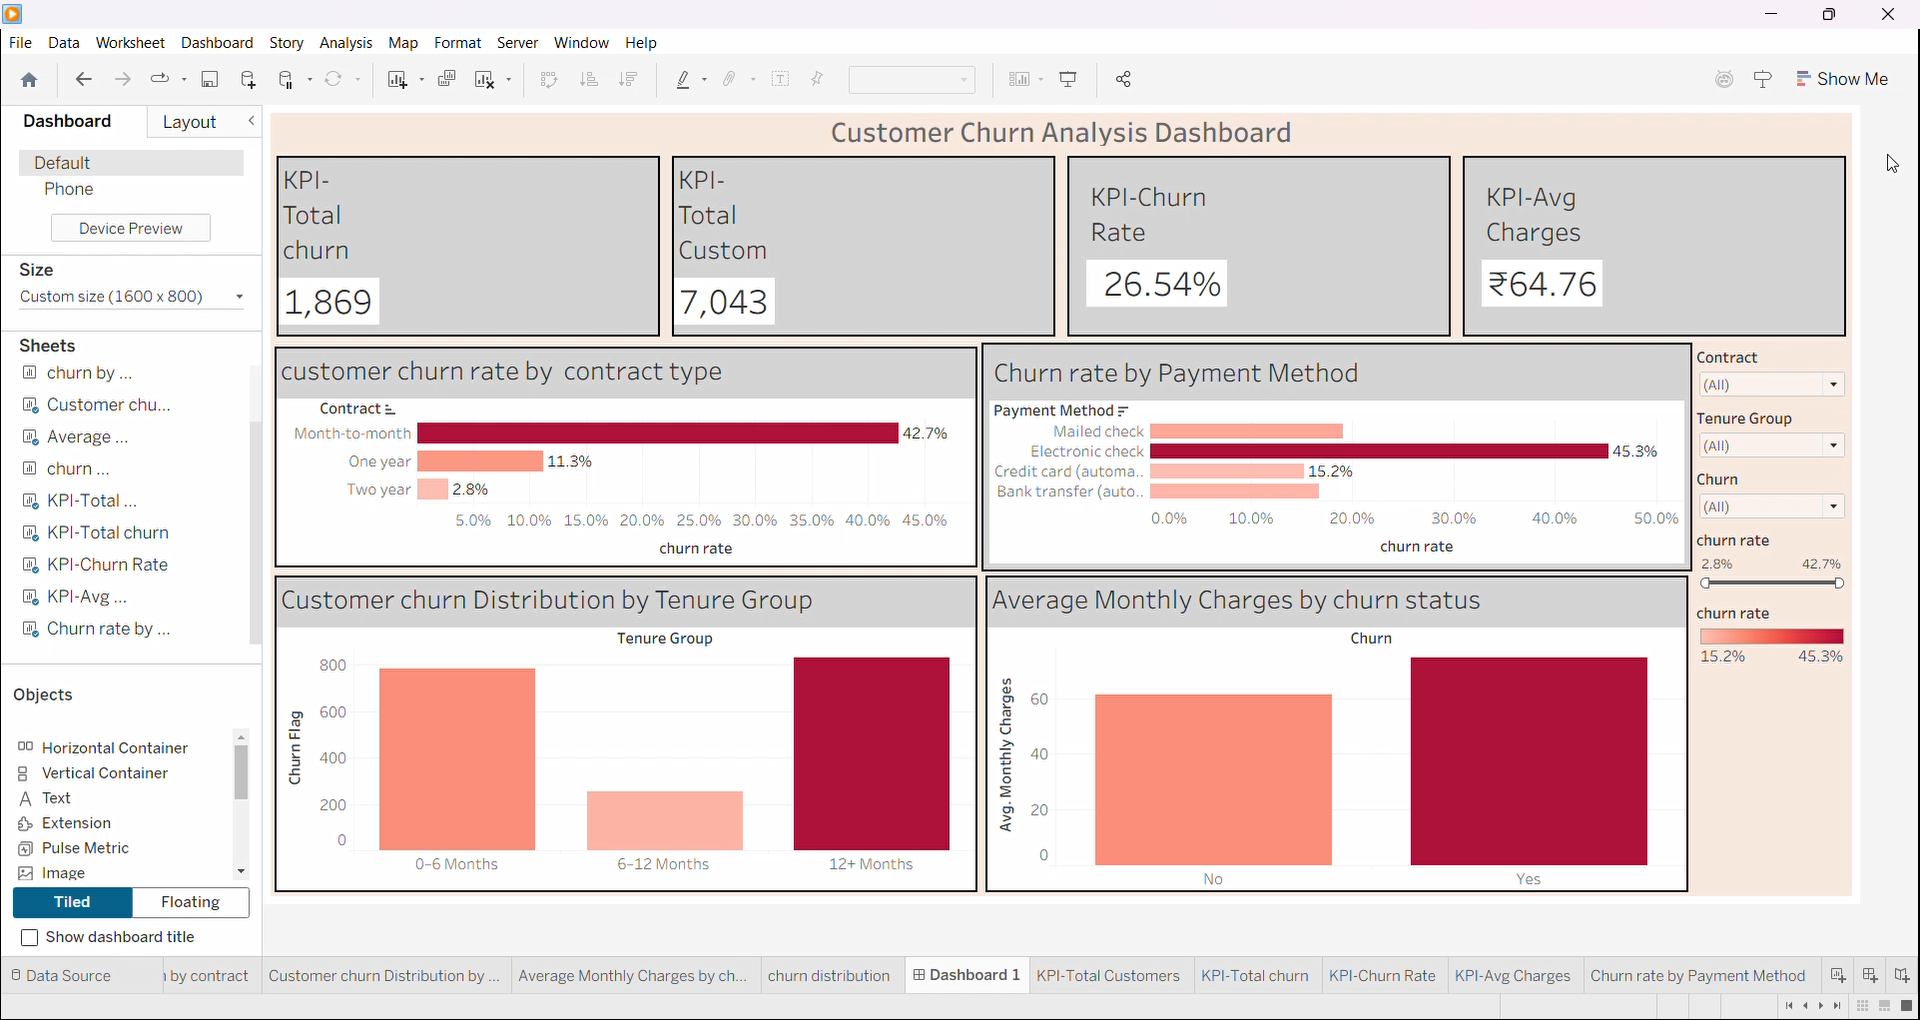

The page's visual inventory and layout, read from the dashboard file:
{"tool":"tableau","page":{"name":"Dashboard 1","canvas":[1600,800],"ordinal":0},"visuals":[{"type":"text","box":[8,8,1584,37]},{"type":"worksheet","title":"KPI-Total churn","mark":"Automatic","box":[8,45,396,193]},{"type":"worksheet","title":"KPI-Total Customers","mark":"Automatic","box":[404,45,396,193]},{"type":"worksheet","title":"KPI-Churn Rate","mark":"Automatic","box":[800,45,396,193]},{"type":"worksheet","title":"KPI-Avg Charges","mark":"Automatic","box":[1196,45,396,193]},{"type":"worksheet","title":"customer churn rate by  contract type","mark":"Bar","rows":["Contract"],"cols":["Calculation_0613843206803456"],"box":[8,238,711.9,228.7]},{"type":"worksheet","title":"Churn rate by Payment Method","mark":"Bar","rows":["PaymentMethod"],"cols":["Calculation_0613843206803456"],"box":[719.9,238,712.1,228.7]},{"type":"filter","title":"Average Monthly Charges by churn status","param":"[federated.15m1s4r00rppu7175kh0e07i2u0x].[none:Contract:nk]","box":[1432,238,160,61]},{"type":"filter","title":"Customer churn Distribution by Tenure Group","param":"[federated.15m1s4r00rppu7175kh0e07i2u0x].[none:Calculation_1121813749538818:nk]","box":[1432,299,160,61]},{"type":"filter","title":"Average Monthly Charges by churn status","param":"[federated.15m1s4r00rppu7175kh0e07i2u0x].[none:Churn:nk]","box":[1432,360,160,61]},{"type":"filter","title":"customer churn rate by  contract type","param":"[federated.15m1s4r00rppu7175kh0e07i2u0x].[usr:Calculation_0613843206803456:qk]","box":[1432,421,160,73]},{"type":"worksheet","title":"Customer churn Distribution by Tenure Group","mark":"Bar","rows":["Calculation_1121813748920320"],"cols":["Calculation_1121813749538818"],"box":[8,466.7,711.9,325.3]},{"type":"worksheet","title":"Average Monthly Charges by churn status","mark":"Bar","rows":["MonthlyCharges"],"cols":["Churn"],"box":[719.9,466.7,712.1,325.3]},{"type":"legend","title":"Churn rate by Payment Method","param":"[federated.15m1s4r00rppu7175kh0e07i2u0x].[usr:Calculation_0613843206803456:qk]","box":[1432,494,160,73]}]}

Visuals, with their boxes on the page's 1600x800 design canvas (x1, y1, x2, y2). These are canvas units, not pixel positions in the 1920x1020 screenshot, which may show the page scaled, cropped or inside an application window:
text: Rect(8, 8, 1592, 45)
"KPI-Total churn" worksheet: Rect(8, 45, 404, 238)
"KPI-Total Customers" worksheet: Rect(404, 45, 800, 238)
"KPI-Churn Rate" worksheet: Rect(800, 45, 1196, 238)
"KPI-Avg Charges" worksheet: Rect(1196, 45, 1592, 238)
"customer churn rate by  contract type" worksheet (Bar marks): Rect(8, 238, 720, 467)
"Churn rate by Payment Method" worksheet (Bar marks): Rect(720, 238, 1432, 467)
"Average Monthly Charges by churn status" filter: Rect(1432, 238, 1592, 299)
"Customer churn Distribution by Tenure Group" filter: Rect(1432, 299, 1592, 360)
"Average Monthly Charges by churn status" filter: Rect(1432, 360, 1592, 421)
"customer churn rate by  contract type" filter: Rect(1432, 421, 1592, 494)
"Customer churn Distribution by Tenure Group" worksheet (Bar marks): Rect(8, 467, 720, 792)
"Average Monthly Charges by churn status" worksheet (Bar marks): Rect(720, 467, 1432, 792)
"Churn rate by Payment Method" legend: Rect(1432, 494, 1592, 567)
